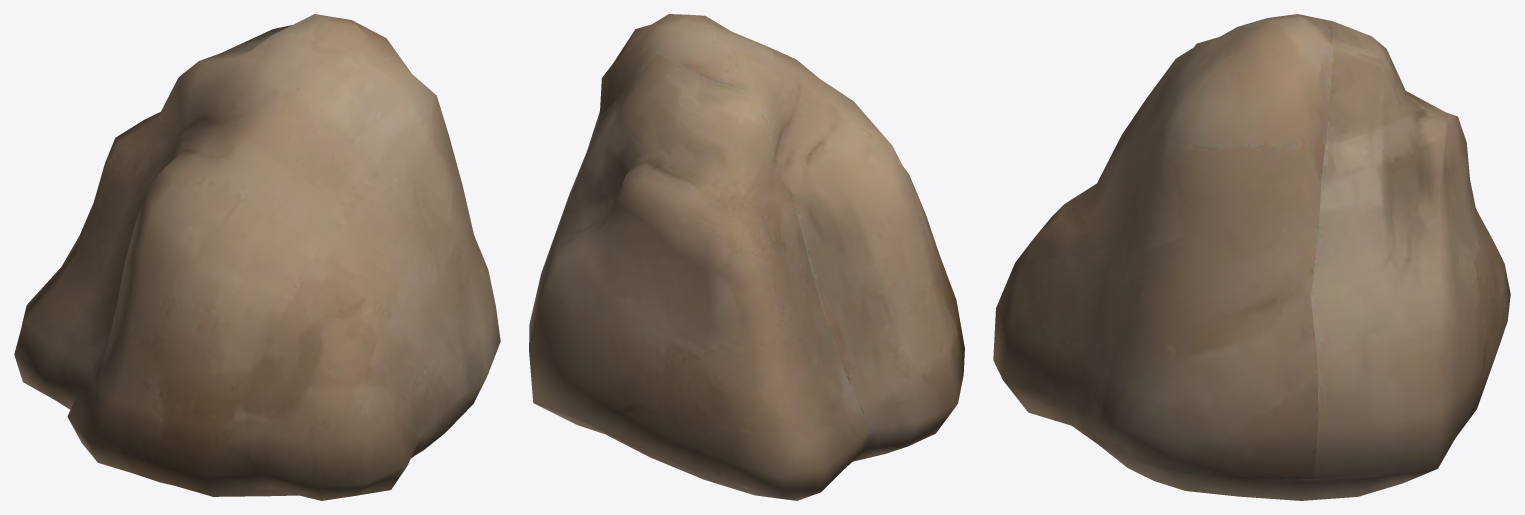
The picture shows the model from 3 angles, left to right: view 1: azimuth 30°, elevation 25°; view 2: azimuth 150°, elevation 25°; view 3: azimuth 270°, elevation 25°; orthographic projection. The views are drawn at different scales.
Parts seen in each view (by area): view 1: body0_model0_lod0_mesh0; view 2: body0_model0_lod0_mesh0; view 3: body0_model0_lod0_mesh0.
Part boxes in pixels (x1,y1,x2,y2): body0_model0_lod0_mesh0: (14, 14, 500, 500); body0_model0_lod0_mesh0: (529, 14, 964, 500); body0_model0_lod0_mesh0: (993, 14, 1510, 500).
Bounding box in the file's own units: 103 × 103 × 108.
Materials: 1 (1 with a texture image).
